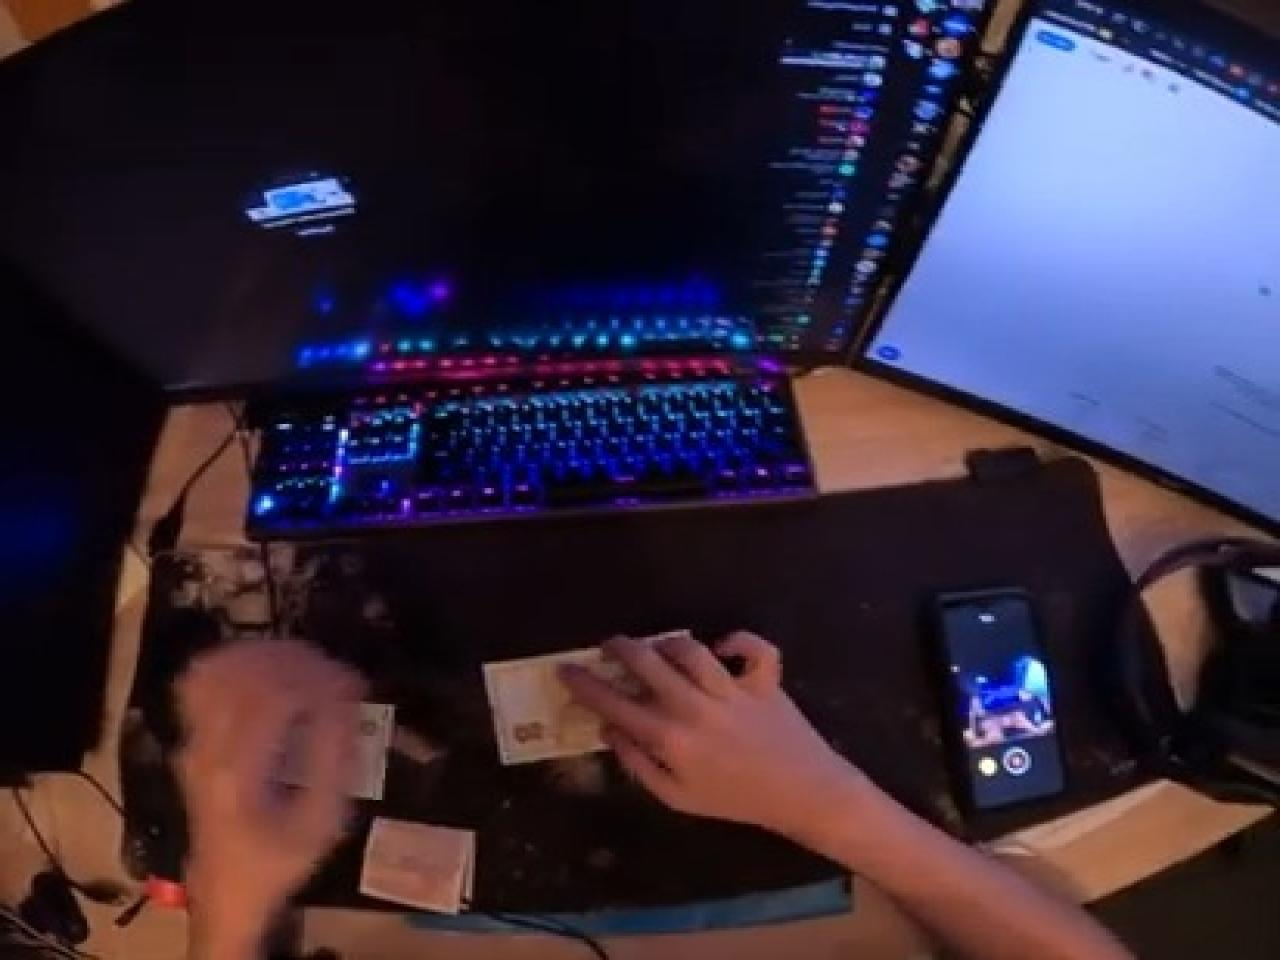50leva: (482, 648, 628, 770)
